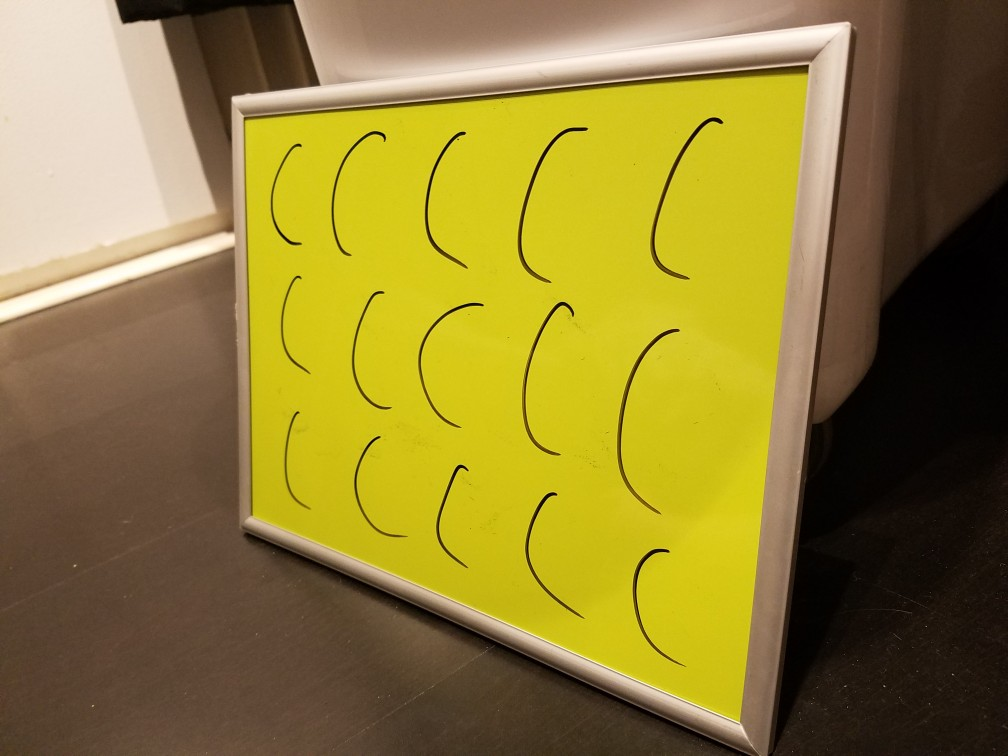(: (628, 99, 741, 298), (610, 312, 686, 524), (510, 112, 592, 289), (515, 299, 591, 464), (410, 289, 489, 436), (611, 539, 695, 669), (323, 123, 394, 262), (521, 477, 588, 622), (421, 117, 481, 276), (338, 281, 395, 418), (338, 430, 405, 546), (427, 452, 479, 582), (259, 132, 307, 254), (271, 268, 315, 382), (273, 401, 307, 516)
